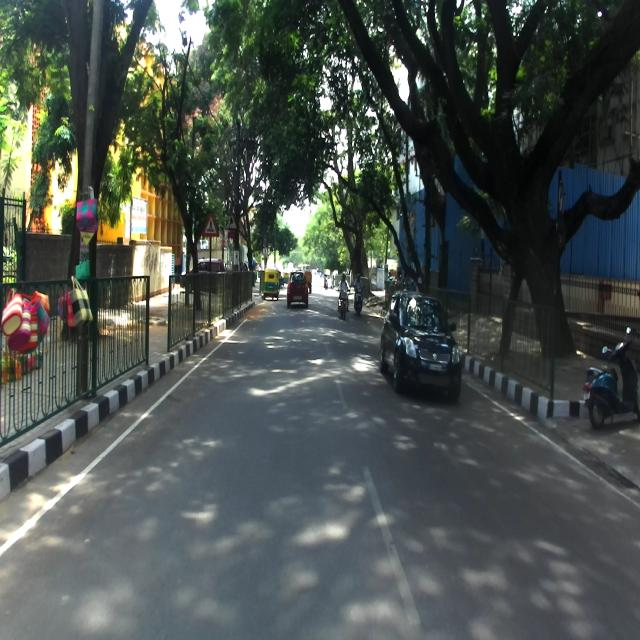car ahead at: (384, 285, 464, 399)
motorcycle ahead at: (584, 324, 639, 430)
